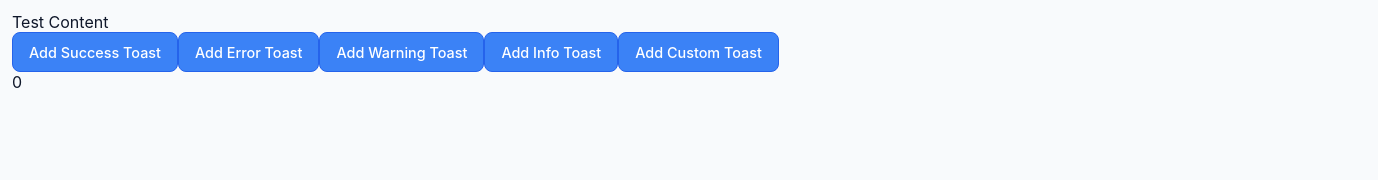
Scenario: ToastContext › should add success toast
Click the button with test id "add-success-button" at (95, 52), box [12,32,178,72]
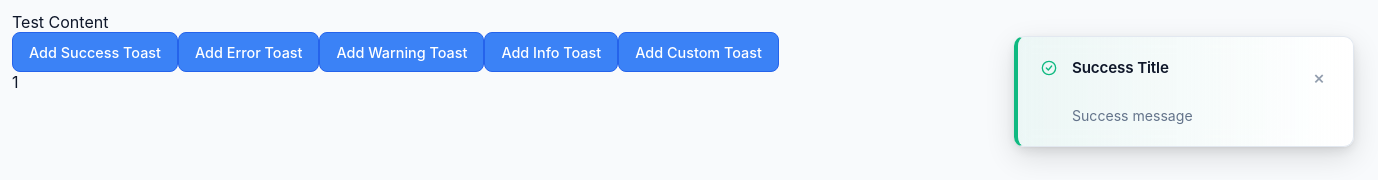
Now the text with test id "toast-count" reads "1", box [12,72,18,92]
Now the element with class "toast-success" is shown, box [1014,36,1354,147]
Now the element with class "toast-success" shows "Success Title", box [1072,58,1169,77]
